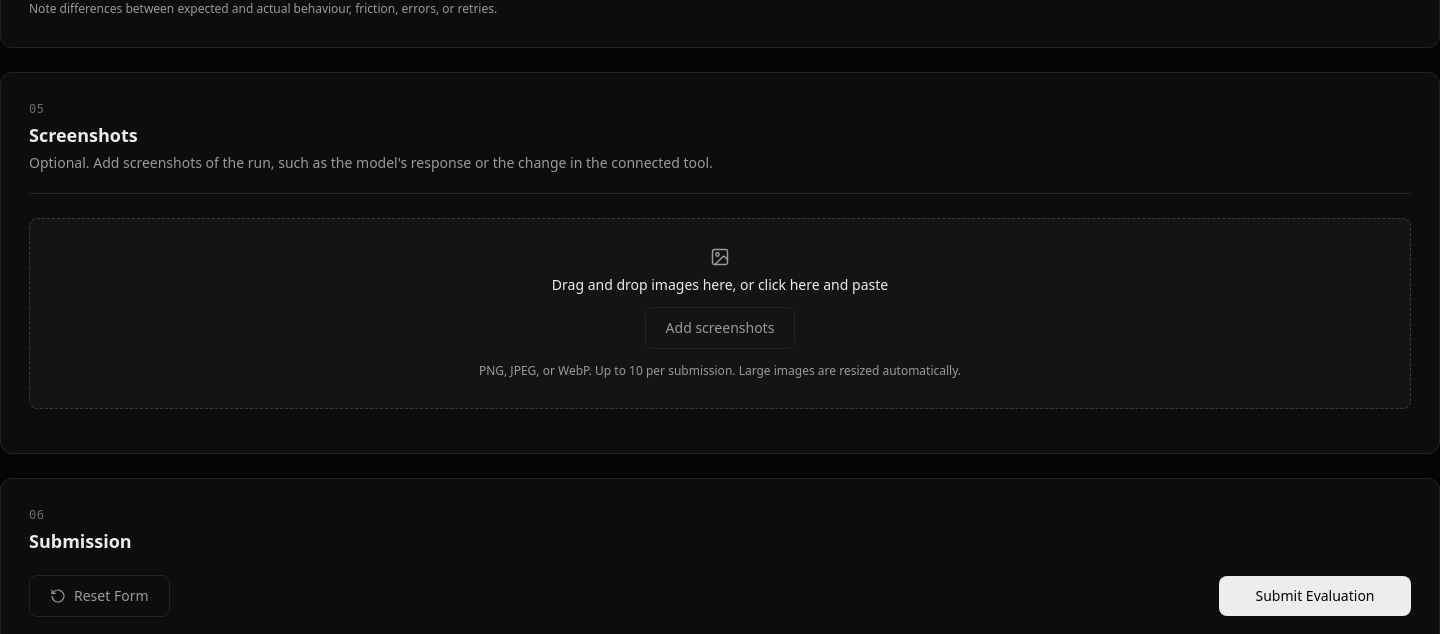
Scenario: EvaluationForm › clears an error inline as soon as the field is fixed
(page scrolled)
Click the button "Submit Evaluation" at (1315, 596), box top-left (1219, 576), bottom-right (1411, 616)
(page scrolled)
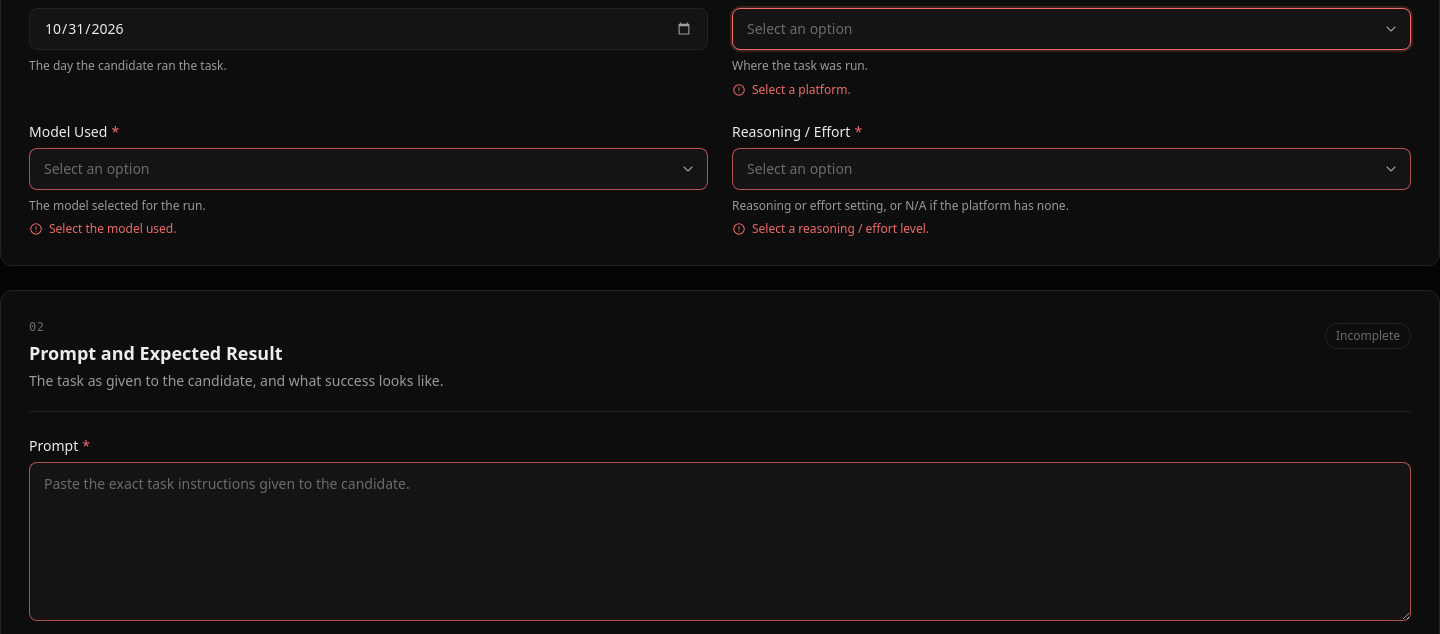
Type "Do the task" into the text box named "Prompt*" at (720, 541), box top-left (29, 462), bottom-right (1411, 620)
(page scrolled)
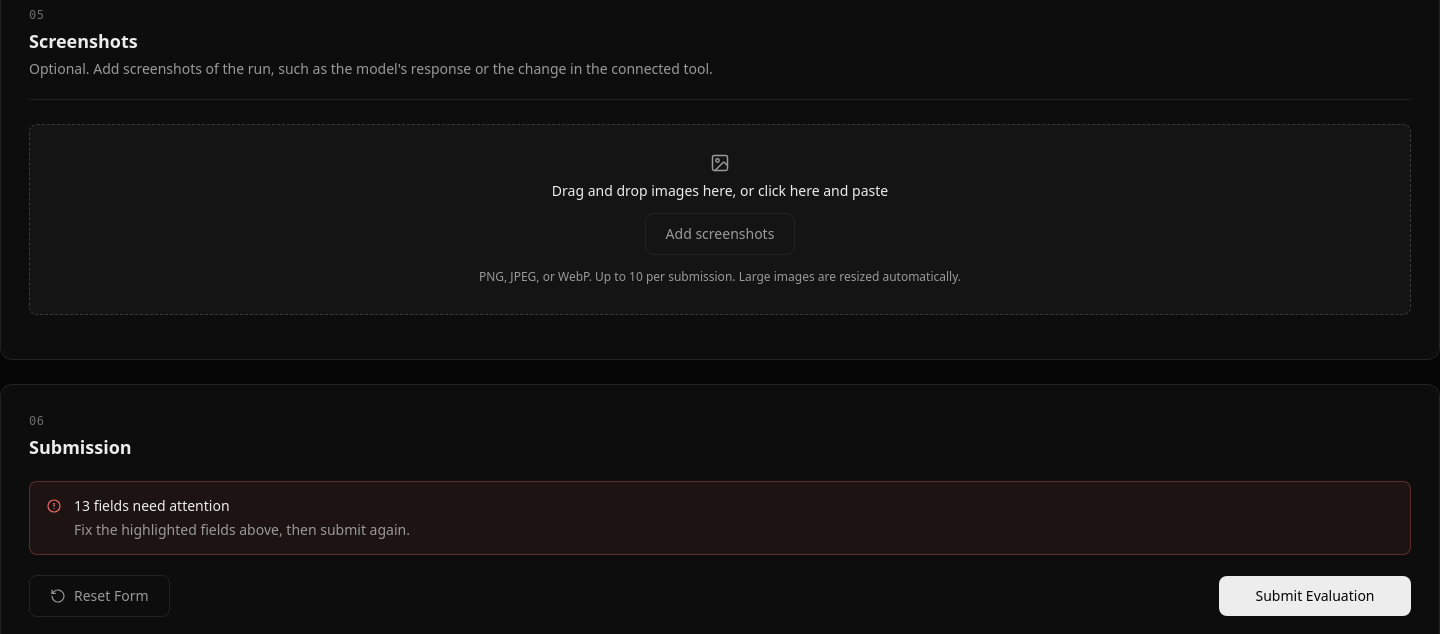
Result: the text "13 fields need attention" is shown at top-left (74, 496), bottom-right (230, 515)
